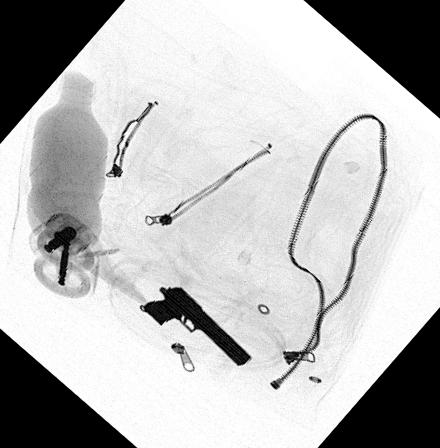Gun: (140, 285, 252, 367)
